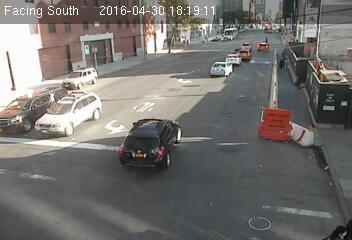neg: (215, 57, 227, 72), (195, 72, 203, 83), (153, 84, 161, 94)
pos: (275, 55, 287, 71), (281, 56, 292, 71)
